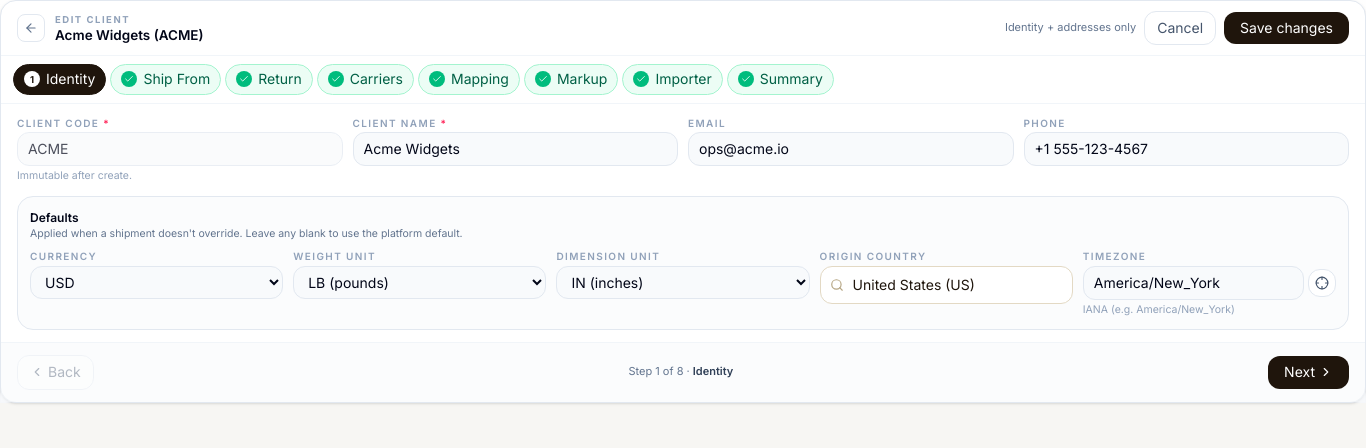
Test case: ClientEditorPage · ShipFrom · positive › Edit button appears in preview when picked warehouse is CLIENT-owned
The width and height of the screenshot is (1366, 448).
Expected: the field with placeholder "MA1885" is shown, [17,132,342,166]
Click the tab "Ship From" at x=166, y=79, box [110,64,221,95]
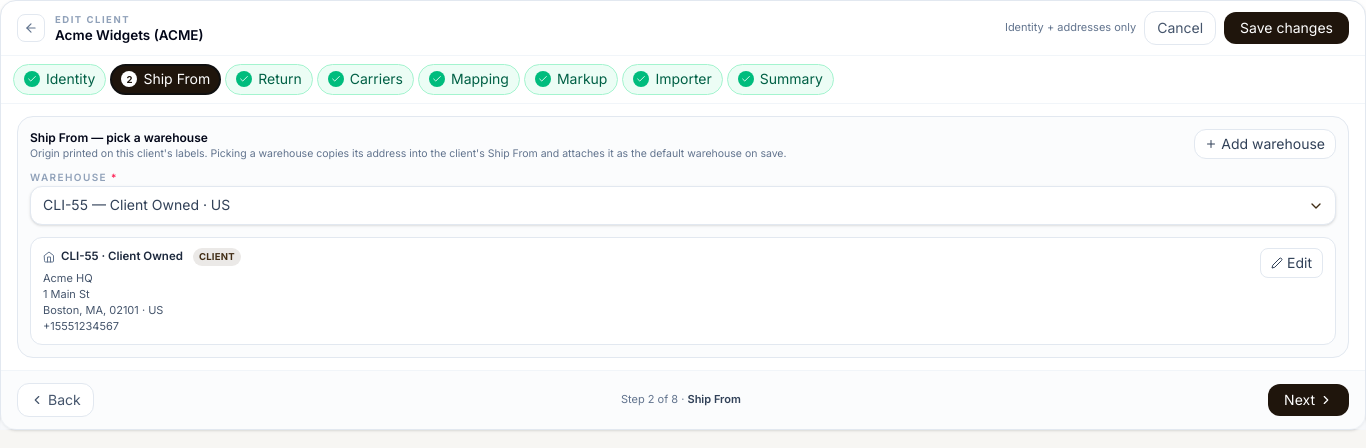
Now the heading "Ship From — pick a warehouse" is shown, box [30,130,208,145]
Now the text "CLI-55 · Client Owned CLIENT" is shown, box [43,248,241,266]
Now the button "Edit" is shown, box [1260,248,1323,278]
